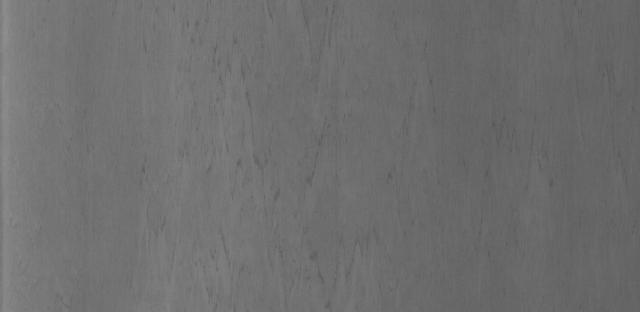silk_spot: (190, 29, 375, 304)
